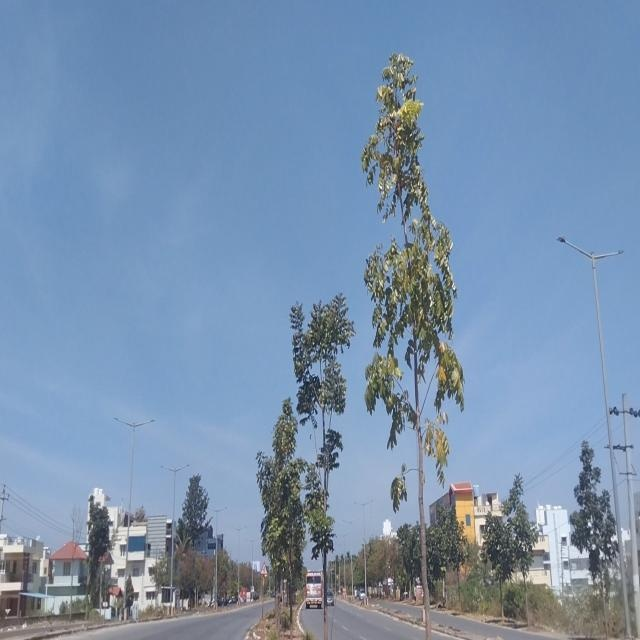bien_nguy_hiem: (260, 561, 268, 576)
